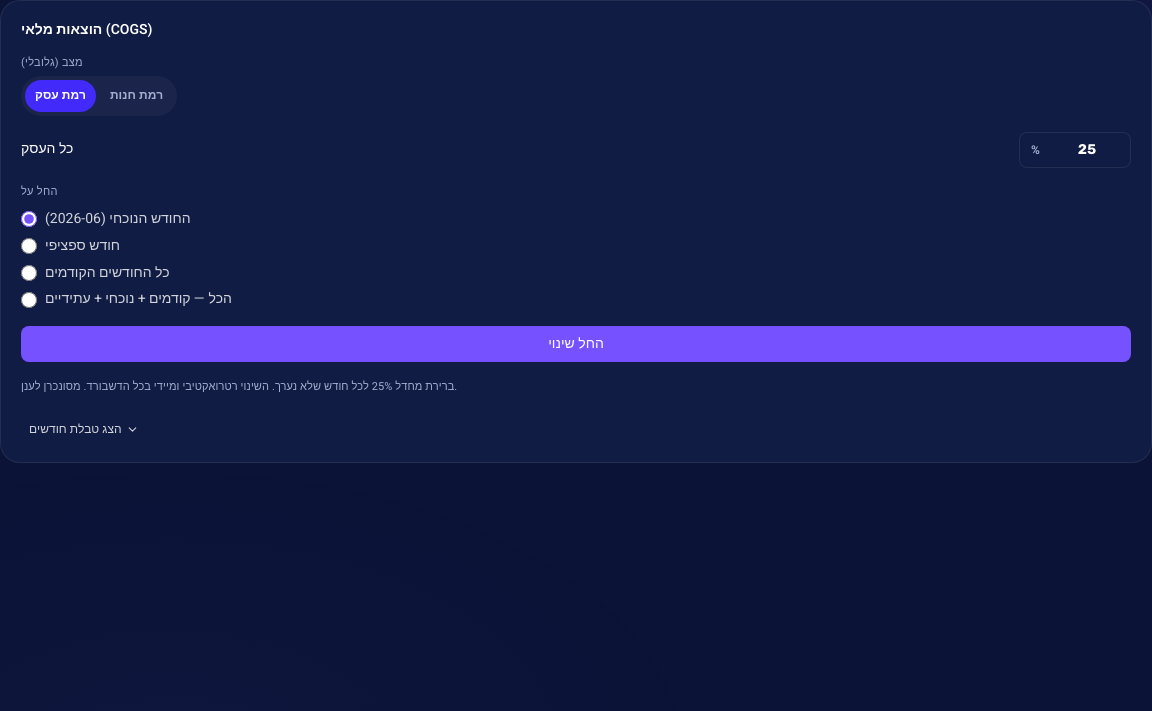
Test: CogsSettings › expands the months timeline on toggle click and collapses again on a second click
Step 1. Click the button with test id "cogs-timeline-toggle" → x=84, y=429, box [21, 417, 147, 442]
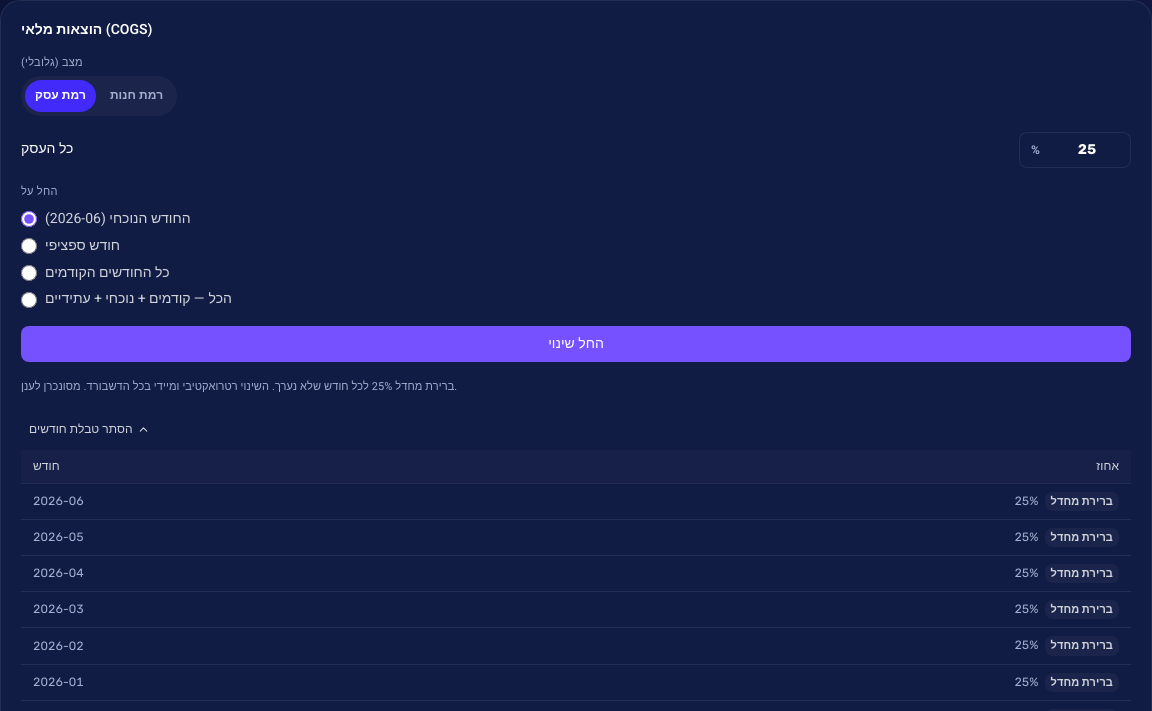
Check: the button with test id "cogs-timeline-toggle" is expanded
Check: the text with test id "cogs-default-2026-06" is shown, box [1045, 492, 1119, 511]
Step 2. Click the button with test id "cogs-timeline-toggle" → x=89, y=429, box [21, 417, 158, 442]
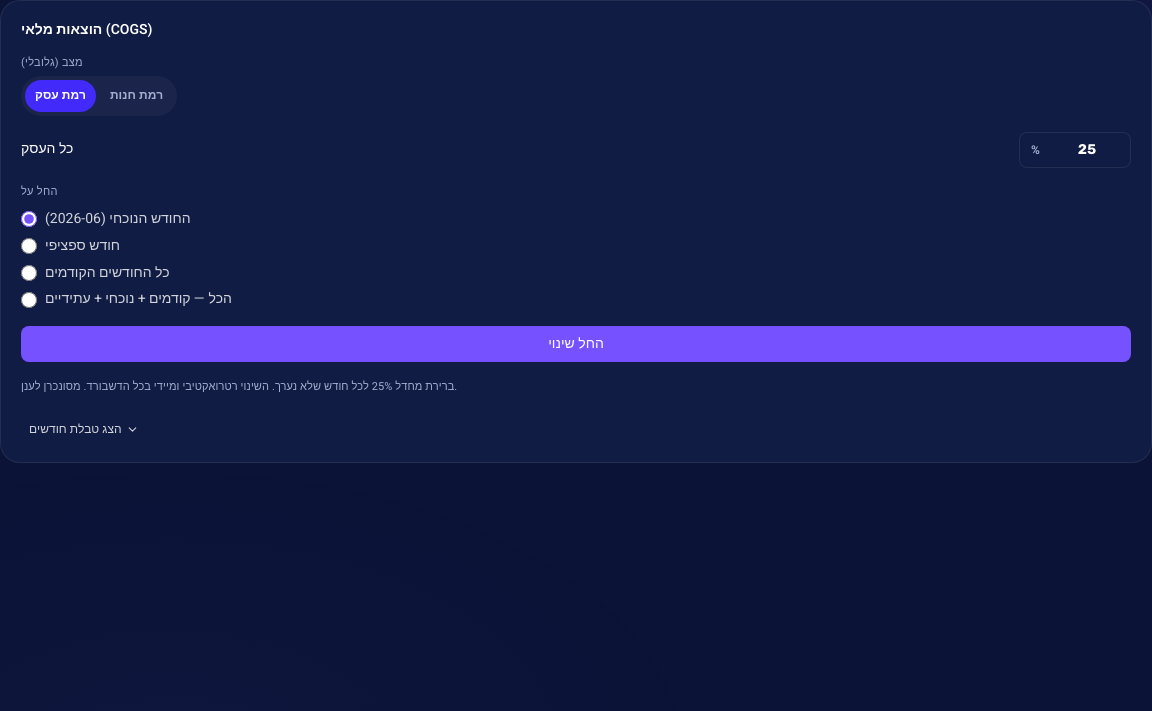
Check: the button with test id "cogs-timeline-toggle" is collapsed, box [21, 417, 147, 442]
